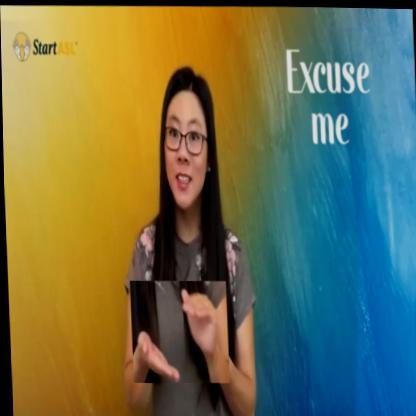ExcuseMe: (128, 278, 228, 383)
